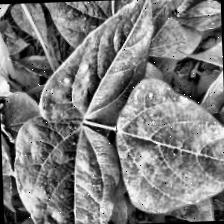Bean Rust: (112, 76, 224, 216), (35, 0, 153, 125), (11, 116, 122, 224)
